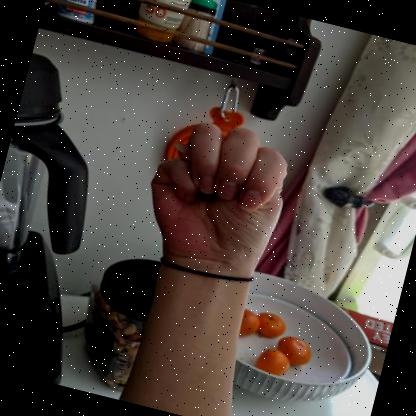M: (151, 123, 287, 279)
